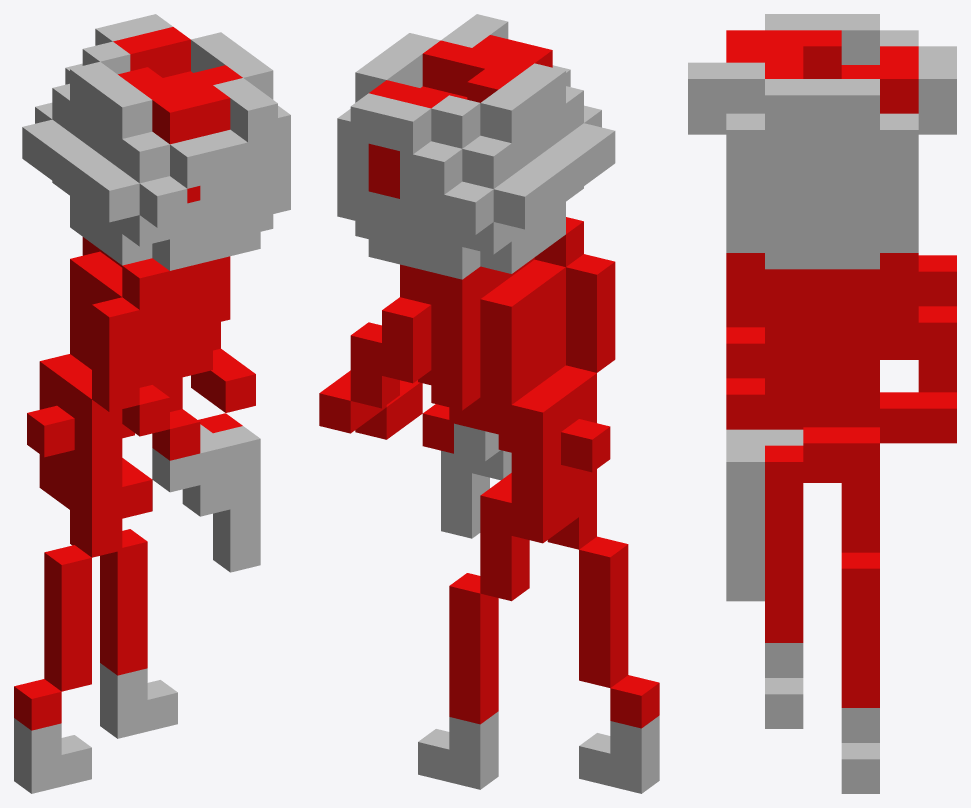
Rendered from shoot_05.fbx.
3 renders of one model, left to right at view 1: azimuth 30°, elevation 25°; view 2: azimuth 150°, elevation 25°; view 3: azimuth 270°, elevation 25°, orthographic. The views are drawn at different scales.
Visible parts, largest first — view 1: Untitled, Untitled.002, Untitled.001; view 2: Untitled, Untitled.002, Untitled.001; view 3: Untitled, Untitled.002, Untitled.001.
Part boxes in pixels (box(x1,y1,x2,y2)): Untitled: box(14, 27, 255, 730); Untitled.002: box(14, 14, 290, 793); Untitled.001: box(70, 101, 290, 239); Untitled: box(319, 35, 659, 728); Untitled.002: box(337, 14, 659, 793); Untitled.001: box(337, 104, 565, 246); Untitled: box(726, 30, 956, 707); Untitled.002: box(688, 14, 956, 793); Untitled.001: box(726, 130, 918, 234).
Bounding box in the file's own units: 80 × 210 × 70.
